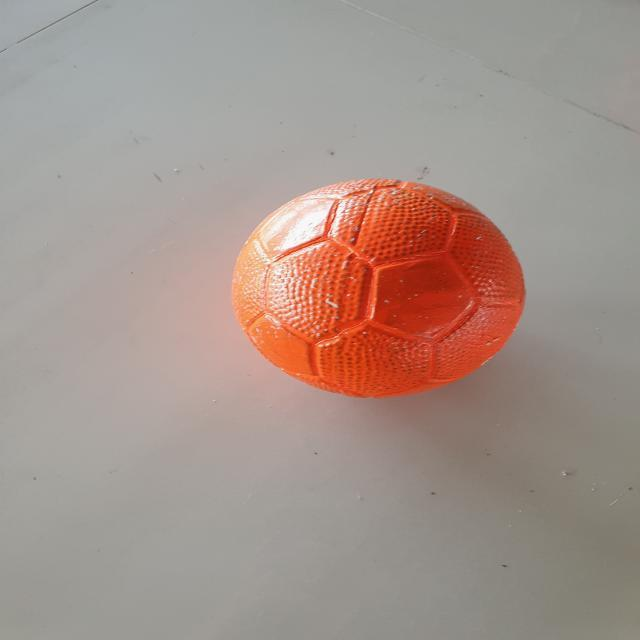bola: (233, 168, 540, 408)
